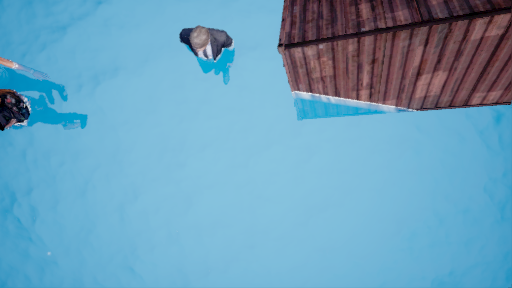person: (181, 22, 239, 95)
